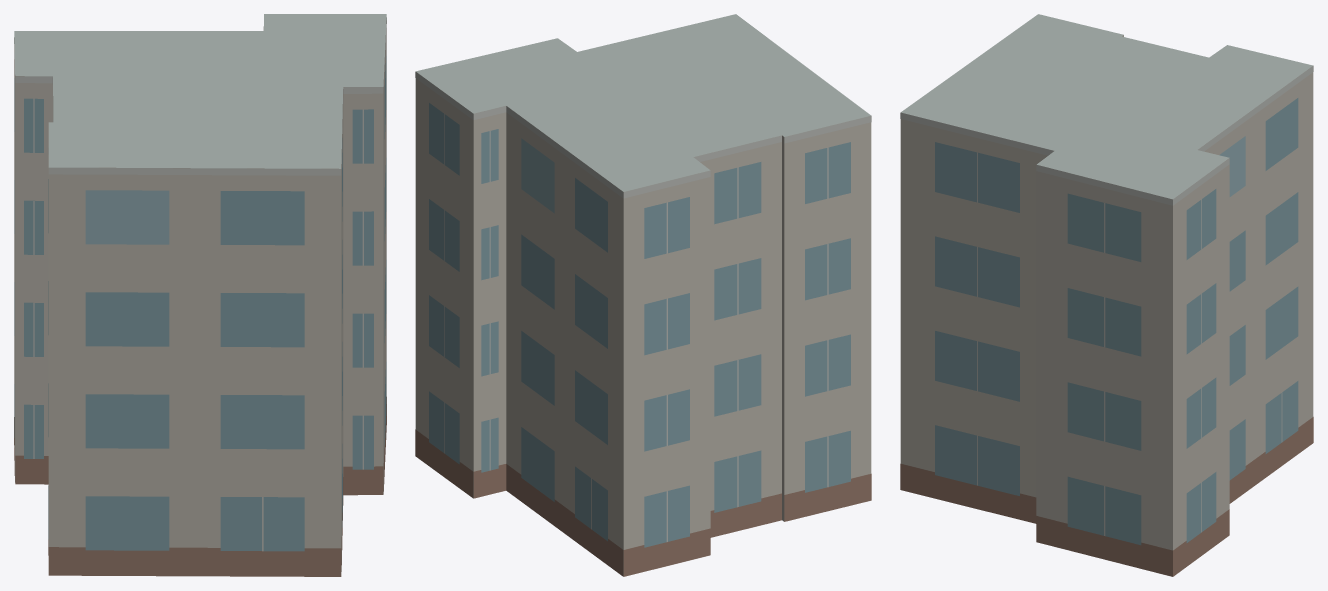
File: survey-upis-32777502.glb
The picture shows the model from 3 angles, left to right: view 1: azimuth 30°, elevation 25°; view 2: azimuth 150°, elevation 25°; view 3: azimuth 270°, elevation 25°; orthographic projection. The views are drawn at different scales.
Parts seen in each view (by area): view 1: survey-upis-32777502.tmp; view 2: survey-upis-32777502.tmp; view 3: survey-upis-32777502.tmp.
Boxes of the visible parts, left/top/right/bottom form: survey-upis-32777502.tmp: left=14, top=14, right=386, bottom=576; survey-upis-32777502.tmp: left=415, top=14, right=871, bottom=576; survey-upis-32777502.tmp: left=900, top=14, right=1313, bottom=576.
Bounding box in the file's own units: 15.12 × 14.35 × 14.24.
